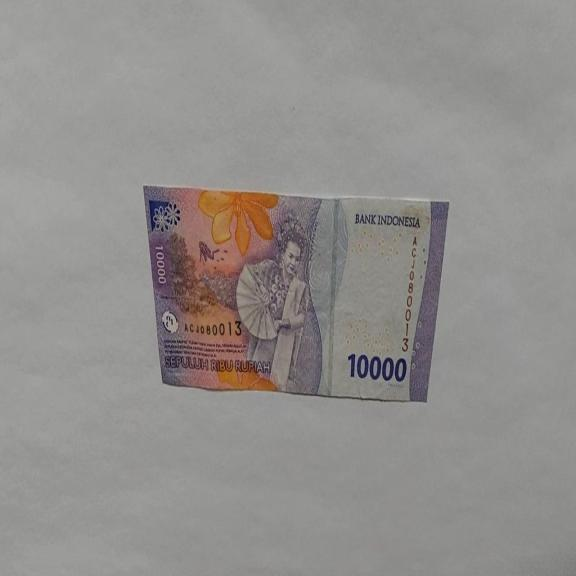Kertas: (142, 184, 449, 402), (346, 350, 407, 384)
